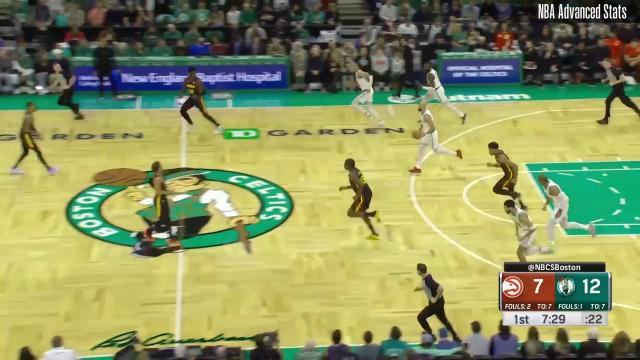free_adx: (562, 228, 574, 242)
free_asx: (520, 160, 528, 168)
mid_sx: (384, 100, 394, 108)
referee: (416, 262, 462, 342), (596, 57, 640, 126), (52, 62, 84, 120)
team: (538, 173, 594, 251), (410, 102, 462, 174), (504, 200, 556, 262), (418, 63, 467, 127), (352, 62, 386, 128)
team1: (10, 102, 62, 176), (340, 159, 380, 241), (144, 162, 180, 248), (179, 66, 223, 132), (488, 142, 528, 210)
